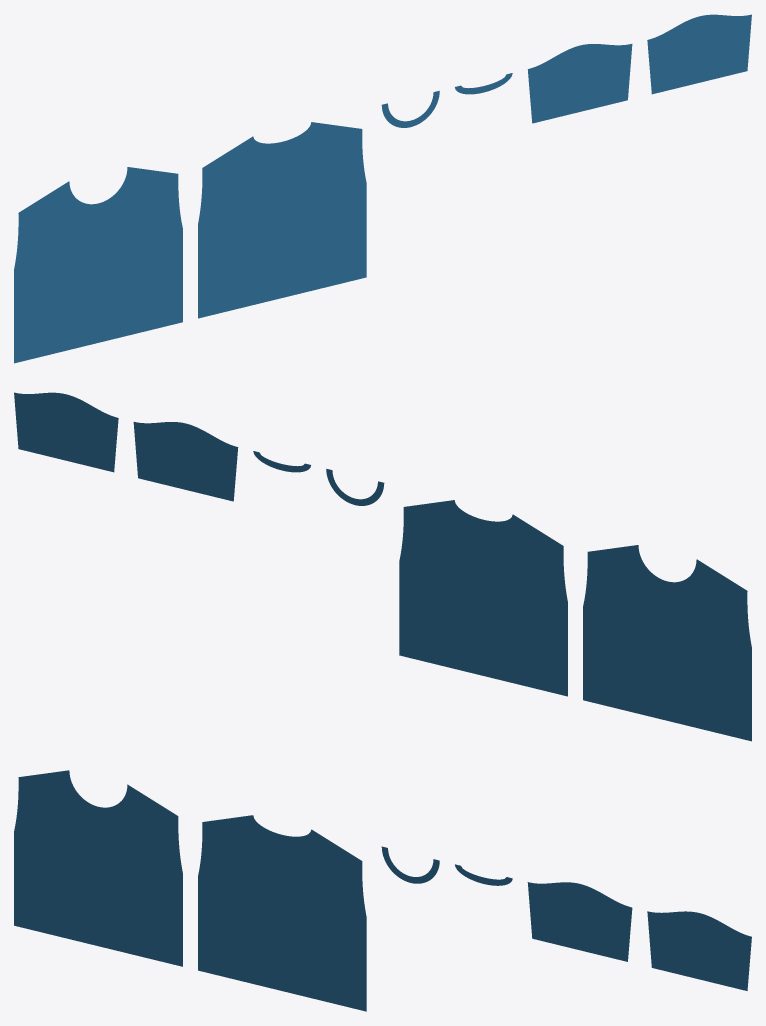
The model's file is camiseta-corta-boxy-algodon-talla-S.glb.
The picture shows the model from 3 angles, top to bottom: view 1: azimuth 30°, elevation 25°; view 2: azimuth 150°, elevation 25°; view 3: azimuth 330°, elevation 25°; orthographic projection.
Visible parts, largest first — view 1: patron-espalda, patron-delantero, patron-manga-der, patron-manga-izq; view 2: patron-espalda, patron-delantero, patron-manga-der, patron-manga-izq; view 3: patron-espalda, patron-delantero, patron-manga-der, patron-manga-izq, patron-cuello-delantero.
Part boxes in pixels (x1=…): patron-espalda: x1=198, y1=122, x2=366, y2=318; patron-delantero: x1=14, y1=167, x2=182, y2=363; patron-manga-der: x1=647, y1=14, x2=751, y2=94; patron-manga-izq: x1=527, y1=44, x2=632, y2=123; patron-espalda: x1=399, y1=500, x2=567, y2=696; patron-delantero: x1=583, y1=545, x2=751, y2=741; patron-manga-der: x1=14, y1=392, x2=118, y2=472; patron-manga-izq: x1=133, y1=422, x2=238, y2=501; patron-espalda: x1=198, y1=815, x2=366, y2=1011; patron-delantero: x1=14, y1=770, x2=182, y2=966; patron-manga-der: x1=647, y1=911, x2=751, y2=990; patron-manga-izq: x1=527, y1=882, x2=632, y2=961; patron-cuello-delantero: x1=381, y1=846, x2=439, y2=883.
Size of the model in its own units: 2.47 by 0.575 by 0.
